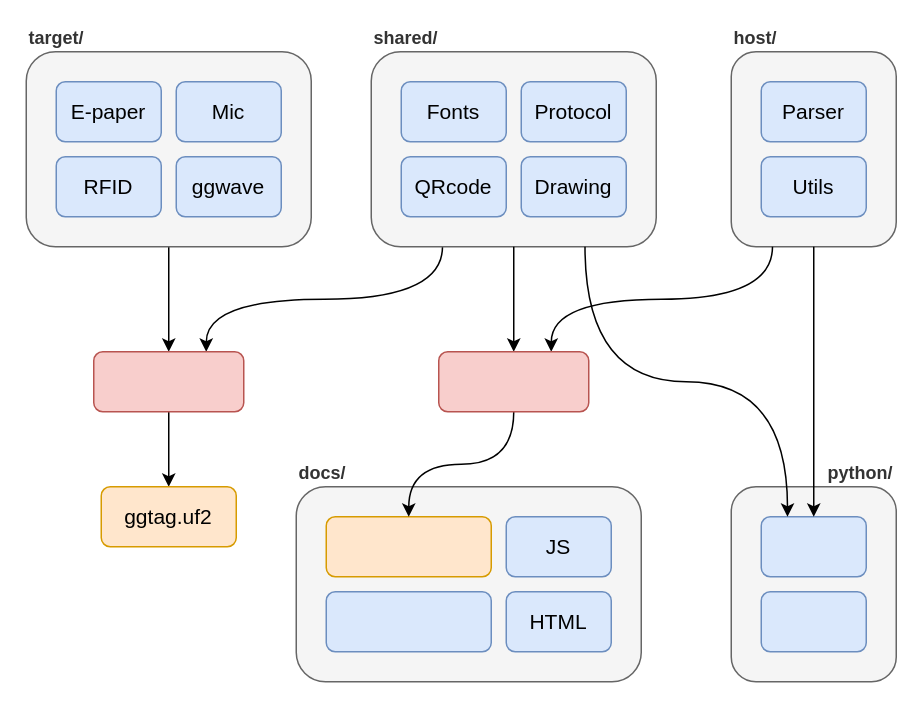
Image size: 923x708. Some labels were removed from this diagram. The centre of each missing label's shape, as x and y in pixels:
"cggtag" goes at [813,546].
"Emscripten" goes at [513,381].
"ggtag.py" goes at [813,621].
"ggtag.{wasm,js}" goes at [408,546].
"ggwave.js" goes at [408,621].
"Pico Toolchain" goes at [168,381].
